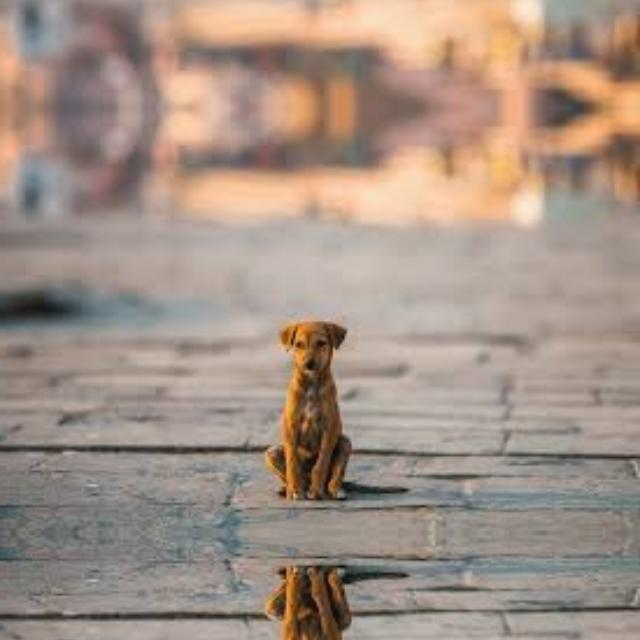dog: (235, 264, 391, 524), (235, 542, 391, 640)
